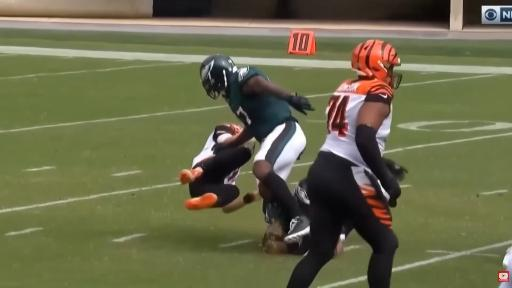Helmet: (352, 40, 401, 88), (200, 55, 237, 99), (294, 178, 311, 218), (230, 124, 242, 135)
Jersey: (320, 80, 393, 170), (226, 67, 293, 142), (192, 125, 235, 167), (263, 200, 291, 232)
Player: (288, 40, 401, 287), (200, 55, 313, 242), (180, 124, 252, 212), (262, 201, 310, 255), (263, 202, 310, 255)
